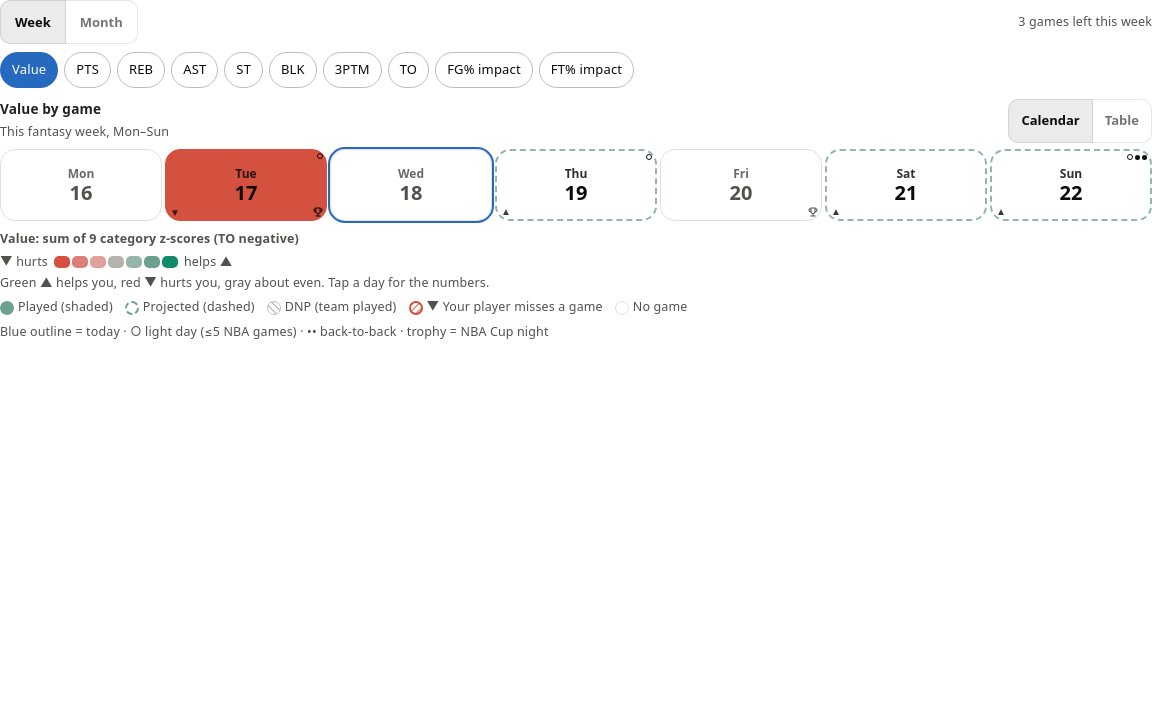
Test case: PlayerHeatCalendar › shows dates only in cells and opens a sheet on tap
What coordinates should you click on to do the following:
click the cell "Thu 19 ▲"
I would click on:
 (576, 185)
Its box is [495,149,657,221].
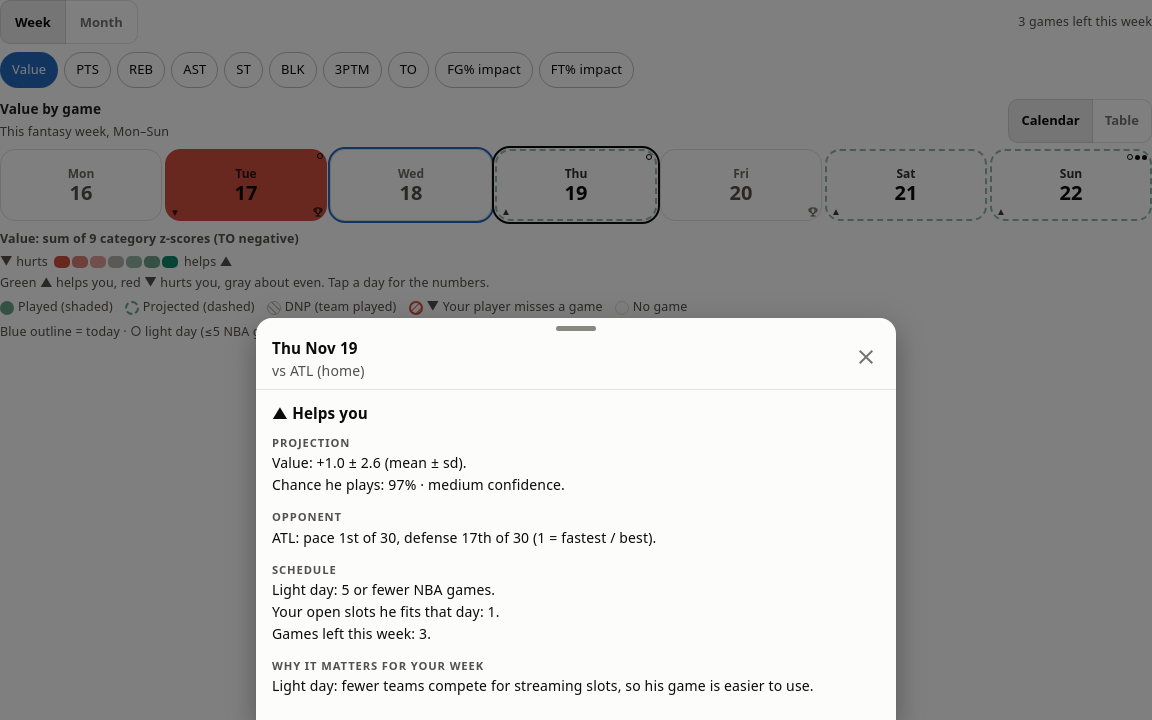
Check: the heading "Thu Nov 19" is shown, box [272,338,358,358]
Check: the text "Value: +1.0 ± 2.6 (mean ± sd)." is shown, box [272,453,467,472]
